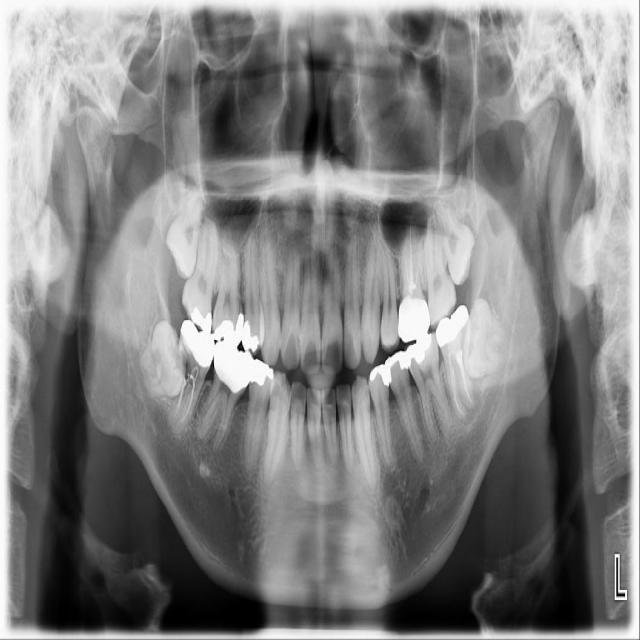3M ESPE Implant: (160, 177, 209, 281)
52: (170, 269, 224, 342), (168, 312, 228, 376), (204, 339, 259, 398), (427, 303, 481, 358), (207, 291, 250, 350), (400, 330, 444, 386), (396, 294, 433, 345), (238, 296, 267, 357), (246, 358, 278, 410), (383, 350, 412, 401), (367, 363, 391, 411)
73: (166, 342, 211, 435), (441, 344, 476, 422), (397, 221, 426, 301), (568, 545, 584, 549)
BioHorizons Implant: (420, 200, 460, 330)
BioLife Implant: (427, 192, 487, 288)
Biomet 3i Implant: (461, 296, 508, 380)
Blue Sky Bio Implant: (434, 305, 476, 421)
Caries: (178, 216, 223, 337)
Implant: (165, 318, 218, 436)
Keystone Dental Implant: (139, 320, 186, 398)
